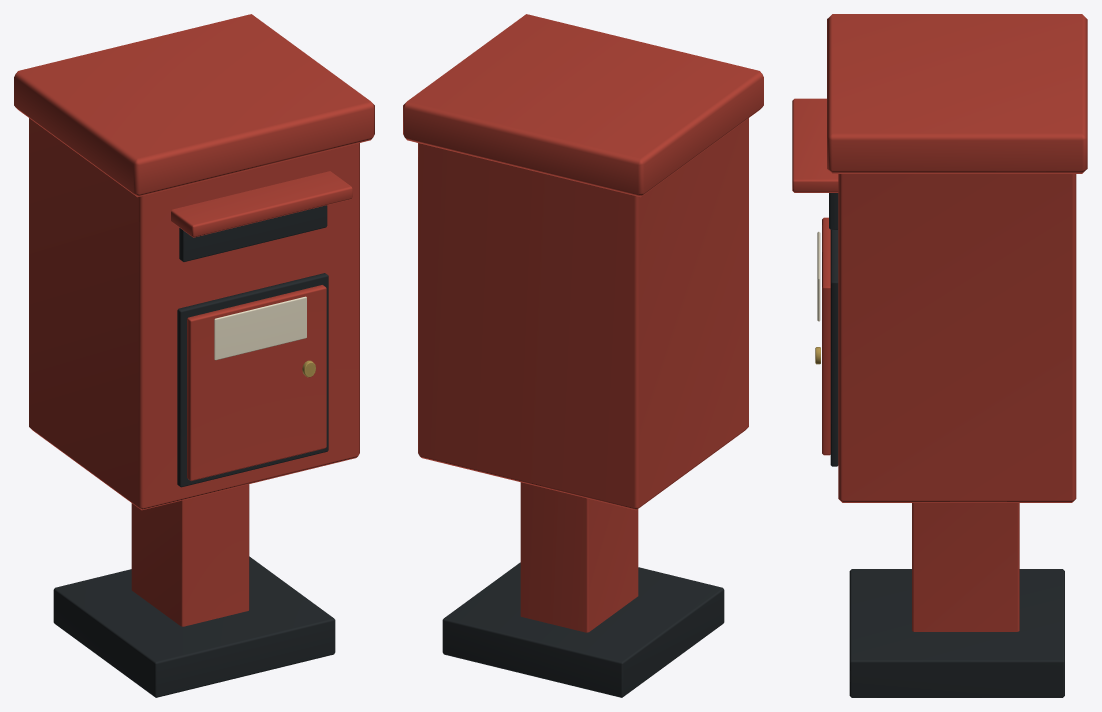
The model's file is S057_street_mailbox_rebuilt.glb.
3 views of the same model, side by side, from view 1: azimuth 30°, elevation 25°; view 2: azimuth 150°, elevation 25°; view 3: azimuth 270°, elevation 25° (orthographic). The views are drawn at different scales.
Parts seen in each view (by area): view 1: Mailbox_painted_postal_red, Deep_joint_recess.001, Warm_ivory.001; view 2: Mailbox_painted_postal_red, Deep_joint_recess.001; view 3: Mailbox_painted_postal_red, Deep_joint_recess.001.
Boxes of the visible parts, x1,y1,x2,y2 form: Mailbox_painted_postal_red: [14, 14, 374, 626]; Deep_joint_recess.001: [53, 205, 335, 697]; Warm_ivory.001: [214, 296, 306, 360]; Mailbox_painted_postal_red: [403, 14, 763, 632]; Deep_joint_recess.001: [442, 562, 724, 697]; Mailbox_painted_postal_red: [792, 14, 1087, 631]; Deep_joint_recess.001: [829, 193, 1064, 697].
Bounding box in the file's own units: 0.58 × 1.27 × 0.5875.
